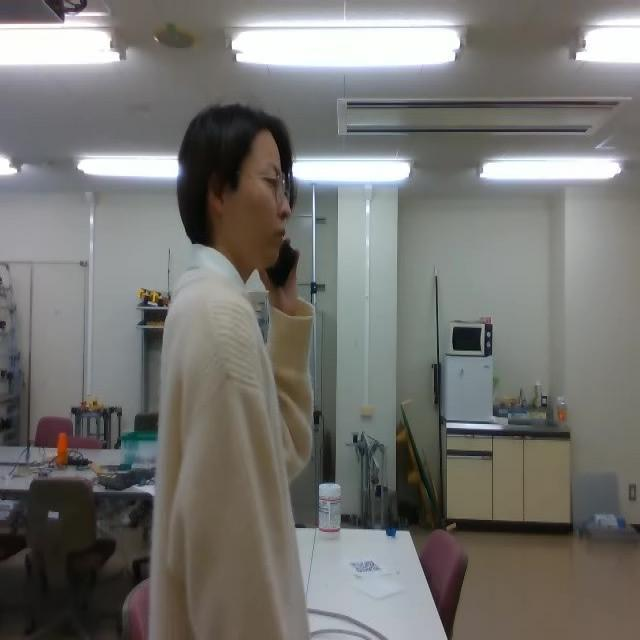Phone: (262, 239, 299, 290)
